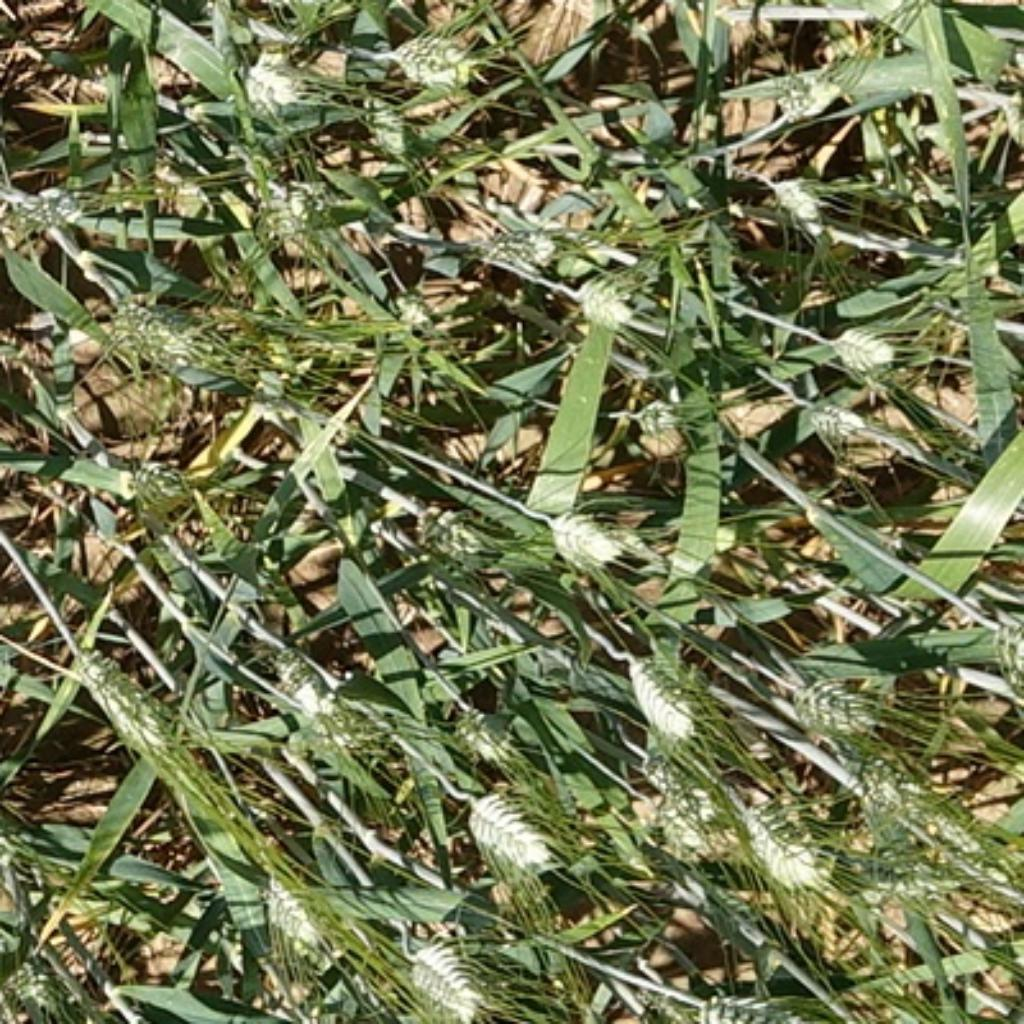0-0: (842, 739, 997, 868), (64, 645, 189, 775), (634, 744, 762, 862), (716, 770, 826, 890), (271, 663, 396, 760), (99, 281, 215, 376), (622, 632, 714, 744), (458, 778, 552, 875), (540, 496, 650, 578), (453, 202, 578, 273), (673, 978, 861, 1024), (261, 163, 360, 250), (399, 929, 488, 1024), (240, 28, 332, 117), (258, 869, 345, 961), (780, 657, 883, 734), (445, 691, 540, 773), (757, 66, 860, 135), (408, 497, 496, 576), (798, 386, 893, 458), (384, 15, 478, 87), (0, 939, 74, 1024), (115, 448, 194, 522), (616, 394, 714, 453), (570, 261, 640, 327), (0, 798, 46, 890), (826, 317, 901, 373), (762, 163, 829, 225), (381, 273, 445, 337), (360, 87, 419, 156)
